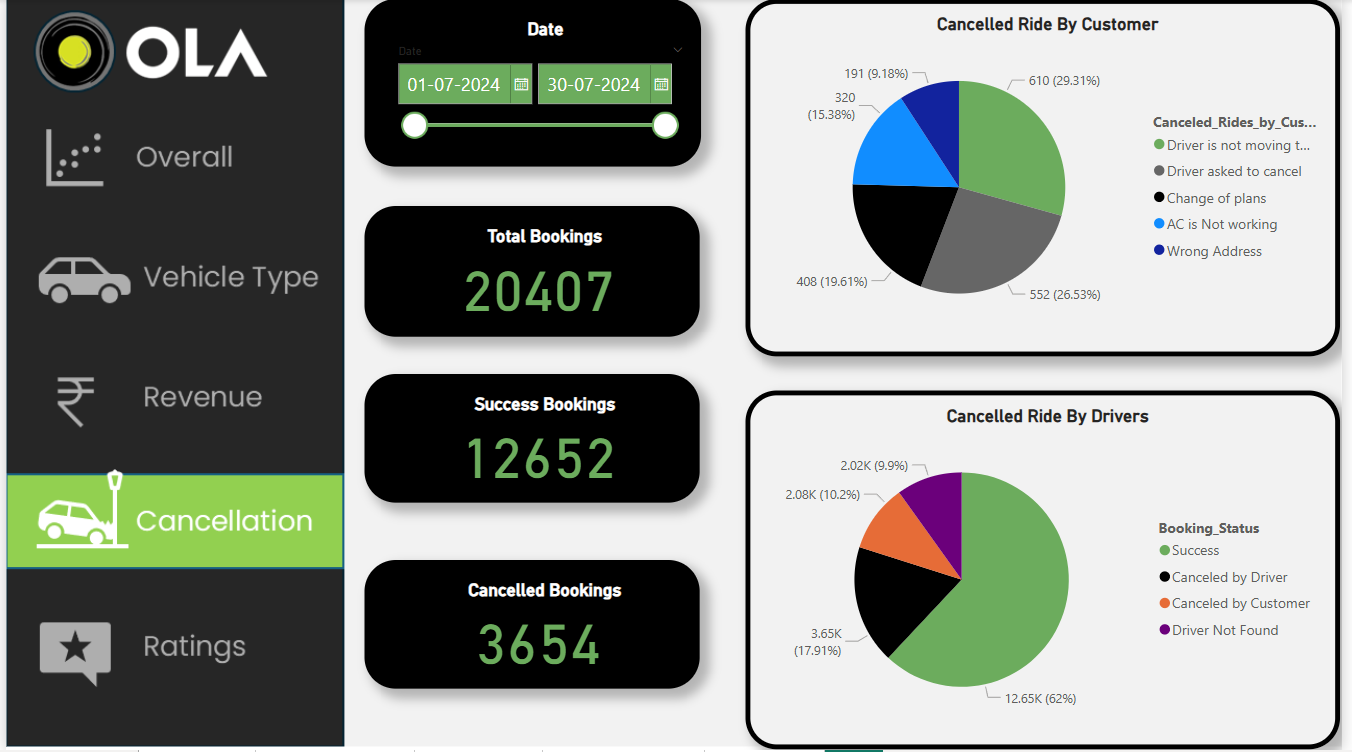

This screenshot's page, from the dashboard's own definition file:
{"tool":"powerbi","page":{"name":"Cancellation","canvas":[1280,720],"ordinal":3},"visuals":[{"type":"actionButton","box":[0,570.9,322.1,90.6],"z":0},{"type":"pieChart","title":"Cancelled Ride By Drivers","fields":{"Y":["CountNonNull(Bookings (2).Canceled_Rides_by_Customer)"],"Category":["Bookings (2).Booking_Status"]},"box":[709.4,375.2,570.1,344],"z":1000},{"type":"pieChart","title":"Cancelled Ride By Customer","fields":{"Y":["CountNonNull(Bookings (2).Canceled_Rides_by_Customer)"],"Category":["Bookings (2).Canceled_Rides_by_Customer"]},"box":[709.4,0,570.1,342.4],"z":2000},{"type":"slicer","title":"Date","fields":{"Values":["Bookings (2).Date"]},"box":[344,0,322.7,160.5],"z":3000},{"type":"card","title":"Total Bookings","fields":{"Values":["CountNonNull(Bookings (2).Booking_ID)"]},"box":[344.4,198.3,321.4,125.2],"z":4000},{"type":"card","title":"Success Bookings","fields":{"Values":["CountNonNull(Bookings (2).Booking_ID)"]},"box":[344.4,359,321.4,123.1],"z":5000},{"type":"card","title":"Cancelled Bookings","fields":{"Values":["CountNonNull(Bookings (2).Booking_ID)"]},"box":[344.4,538.4,321.4,123.1],"z":6000}]}

Visuals, with their boxes in screenshot pixels (x1, y1, x2, y2):
actionButton: 11, 589, 343, 683
"Cancelled Ride By Drivers" pieChart: 743, 387, 1331, 742
"Cancelled Ride By Customer" pieChart: 743, 0, 1331, 353
"Date" slicer: 366, 0, 699, 166
"Total Bookings" card: 366, 205, 698, 334
"Success Bookings" card: 366, 370, 698, 498
"Cancelled Bookings" card: 366, 556, 698, 683
